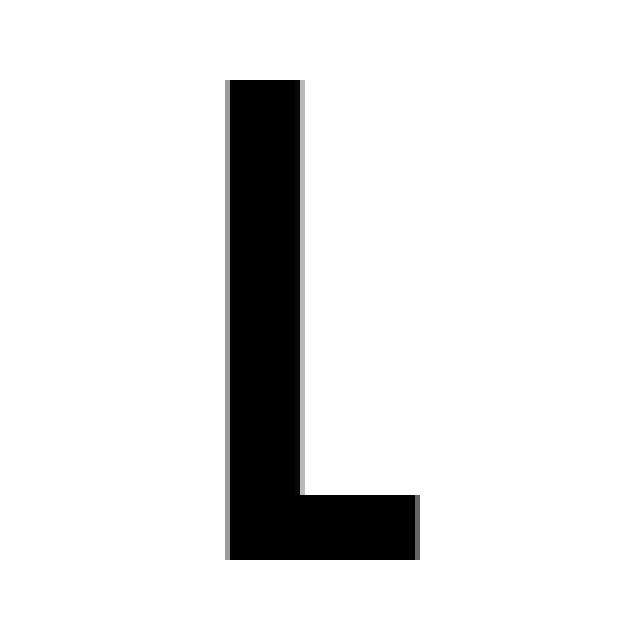L: (215, 70, 420, 560)
